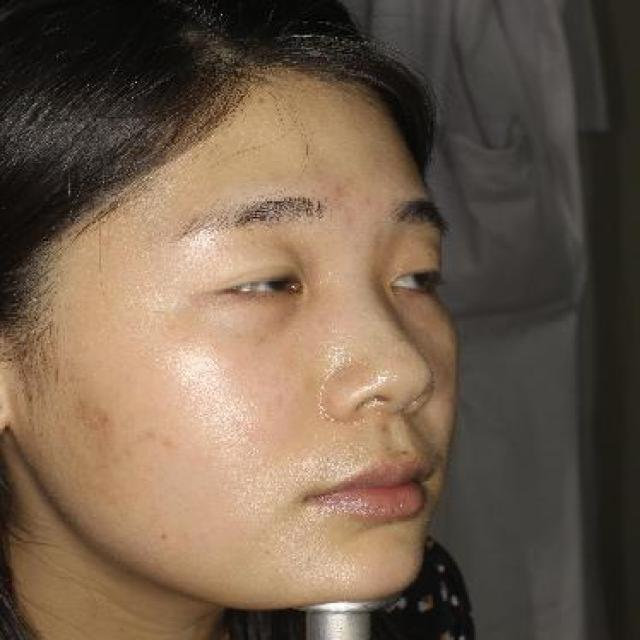dark spot: (94, 406, 115, 428), (137, 426, 157, 442), (72, 400, 85, 420), (161, 429, 171, 454)
papules: (323, 183, 352, 202), (352, 194, 383, 211)
